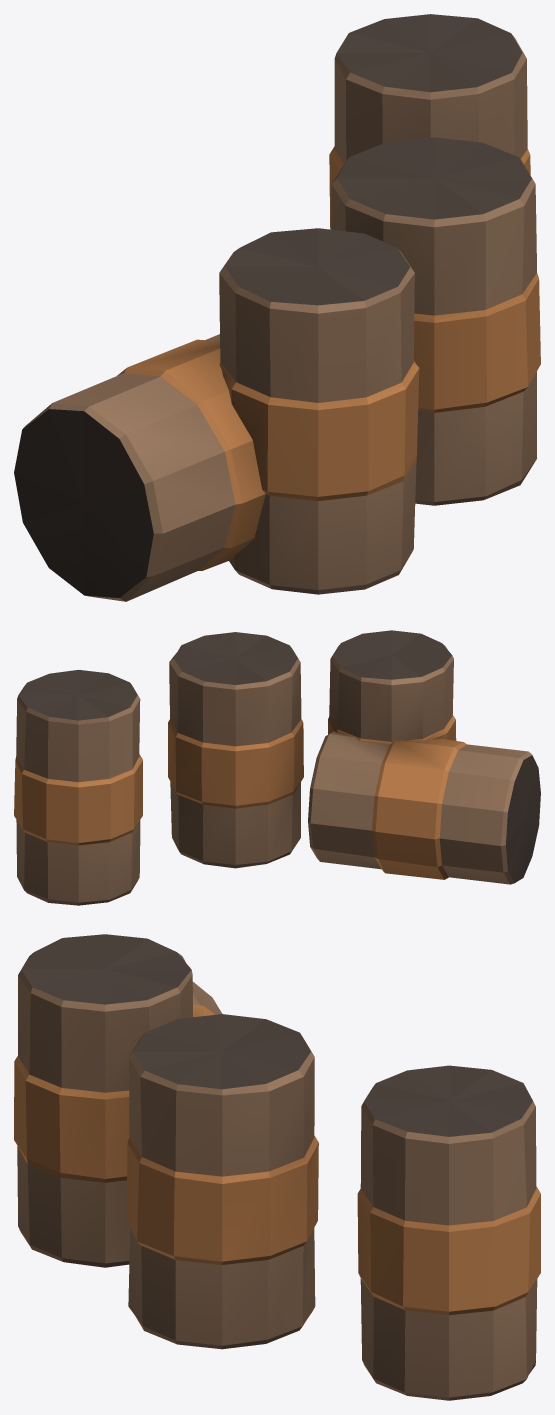
File: obj_barriles_2.glb
3 views of the same model, one above another, from view 1: azimuth 30°, elevation 25°; view 2: azimuth 150°, elevation 25°; view 3: azimuth 270°, elevation 25° (orthographic). The views are drawn at different scales.
Visible parts, largest first — view 1: propforge-libre-barriles; view 2: propforge-libre-barriles; view 3: propforge-libre-barriles.
Part boxes in pixels (x1,y1,x2,y2): propforge-libre-barriles: (14, 14, 540, 601); propforge-libre-barriles: (14, 630, 540, 905); propforge-libre-barriles: (14, 934, 540, 1400).
Size of the model in its own units: 1.03 by 0.46 by 0.8178.
